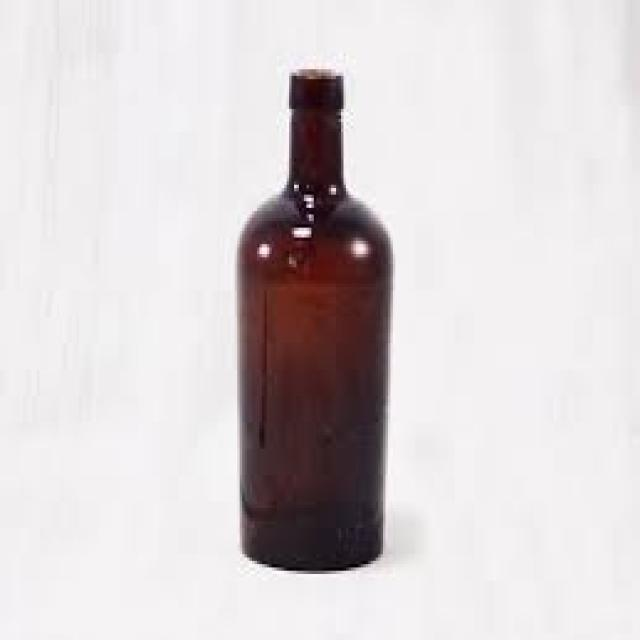glass: (232, 70, 388, 568)
